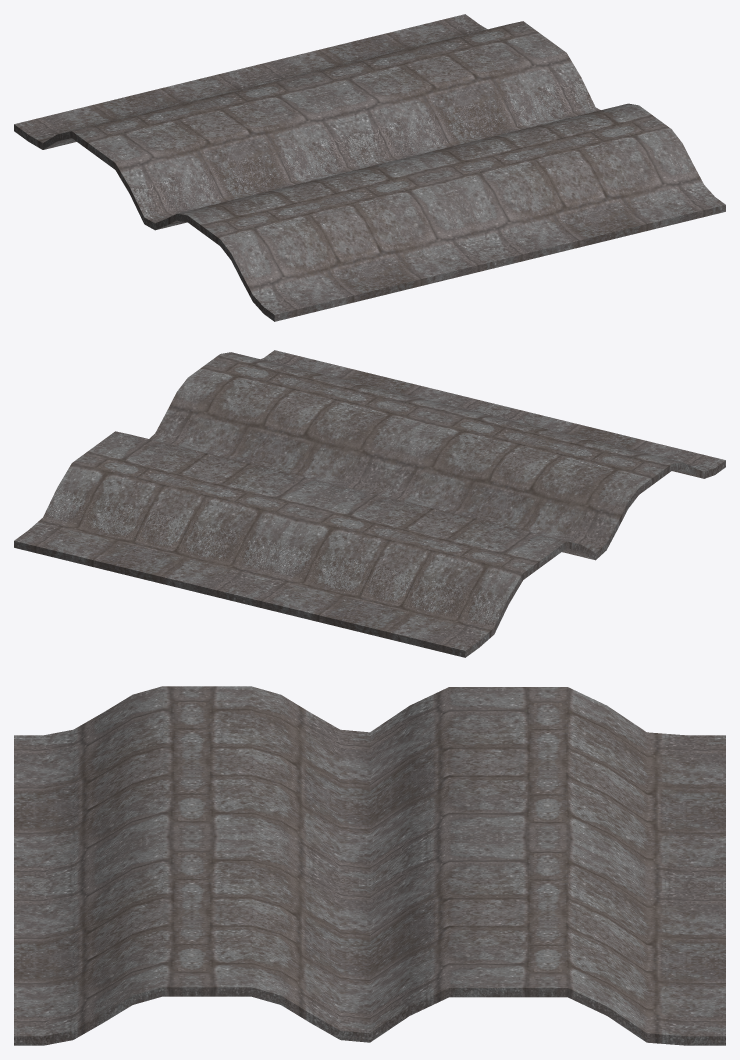
File: Uneven Cieling.fbx
3 renders of one model, top to bottom at view 1: azimuth 30°, elevation 25°; view 2: azimuth 150°, elevation 25°; view 3: azimuth 270°, elevation 25°, orthographic. The views are drawn at different scales.
Visible parts, largest first — view 1: Plane; view 2: Plane; view 3: Plane.
Boxes of the visible parts, bbox=[...] form: Plane: bbox=[14, 14, 725, 321]; Plane: bbox=[14, 350, 725, 657]; Plane: bbox=[14, 686, 725, 1045].
Bounding box in the file's own units: 1313 × 119 × 1313.
